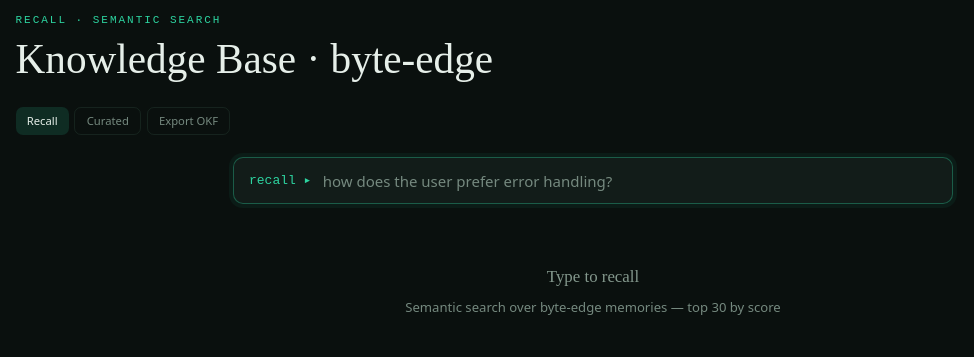
Test: KB recall workbench › a query with zero matches shows an honest empty state
Type "nonexistent thing" into the field named "recall query" at (630, 181), box [323,170,937,192]
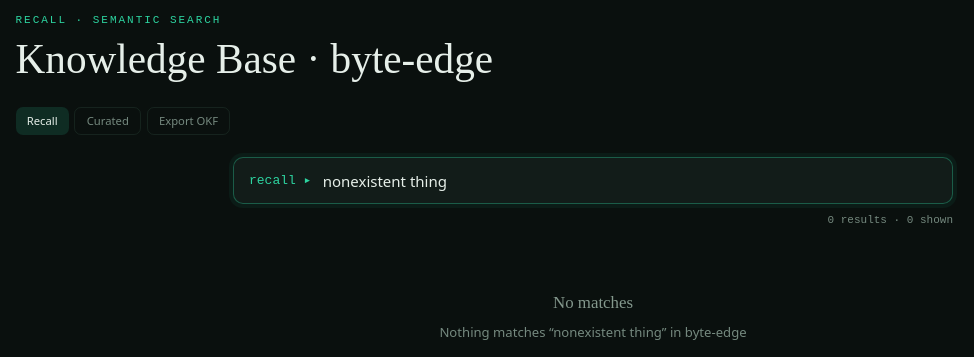
Result: the text "No matches" is shown at [553,290,633,316]
